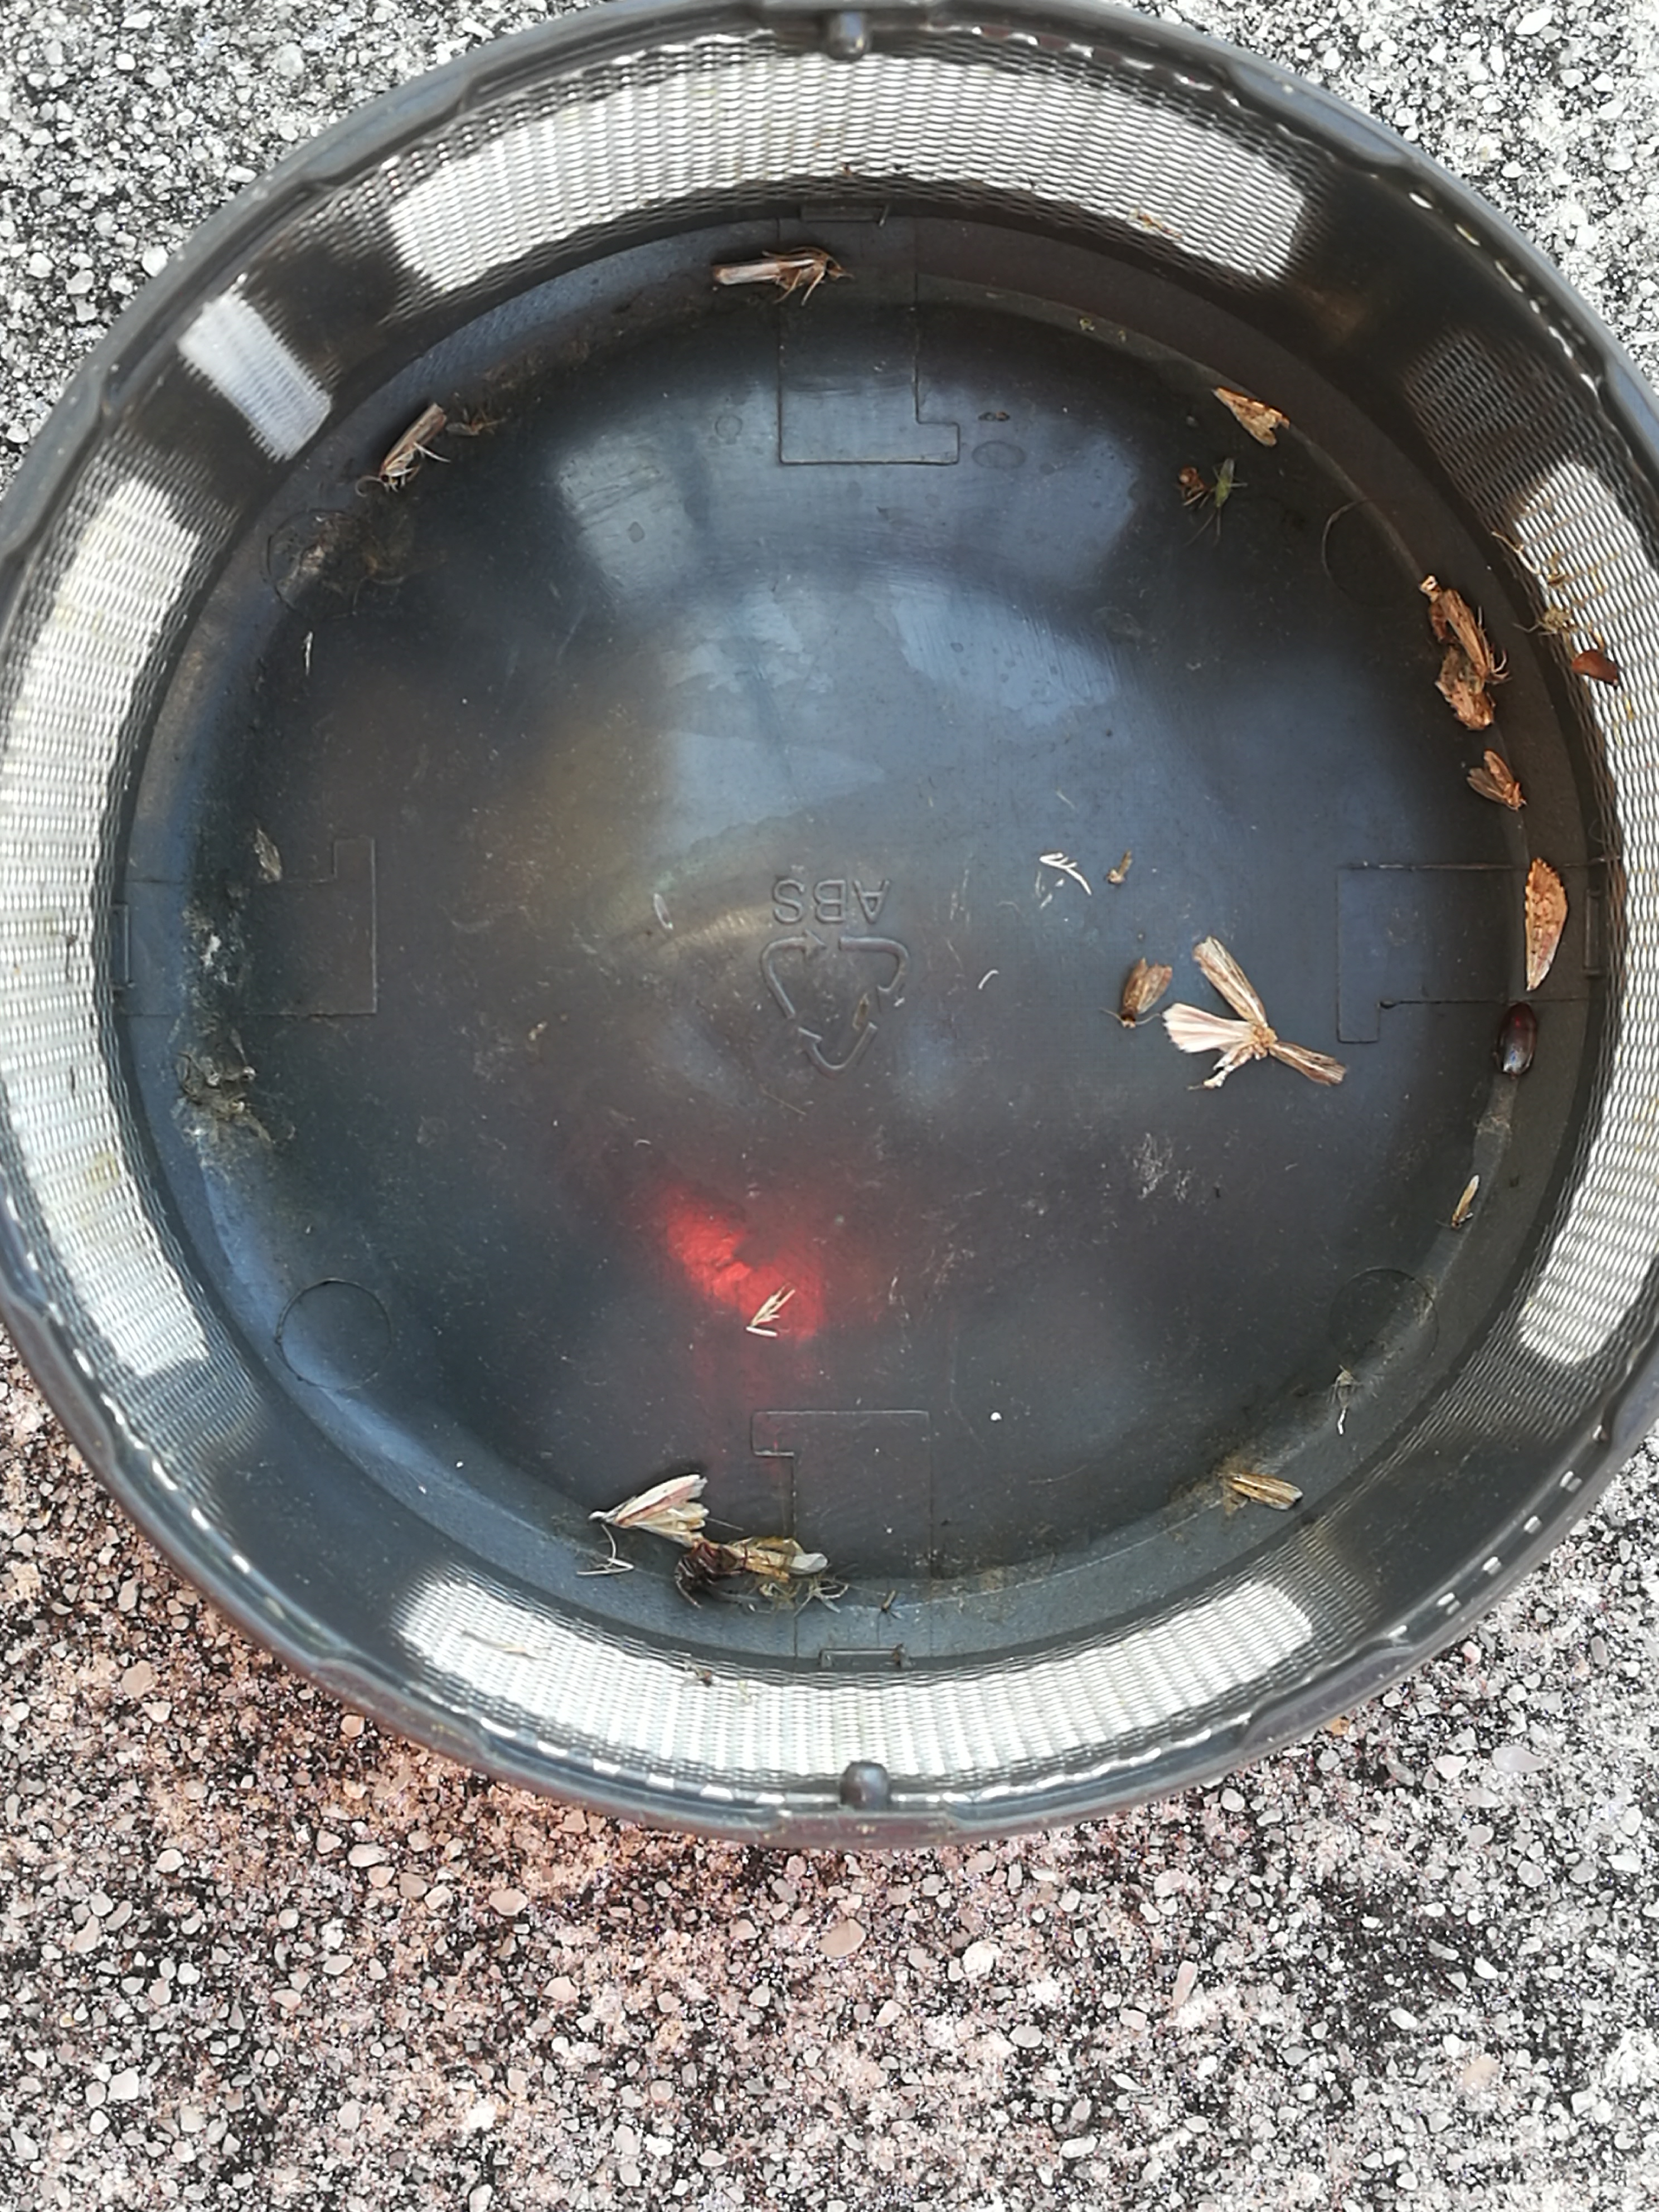mosquito: (380, 406, 448, 493), (1438, 590, 1493, 685), (711, 249, 843, 284), (721, 1543, 824, 1575)
moth: (1162, 937, 1277, 1092), (587, 1474, 708, 1547), (1122, 956, 1171, 1028), (1469, 751, 1523, 810)
